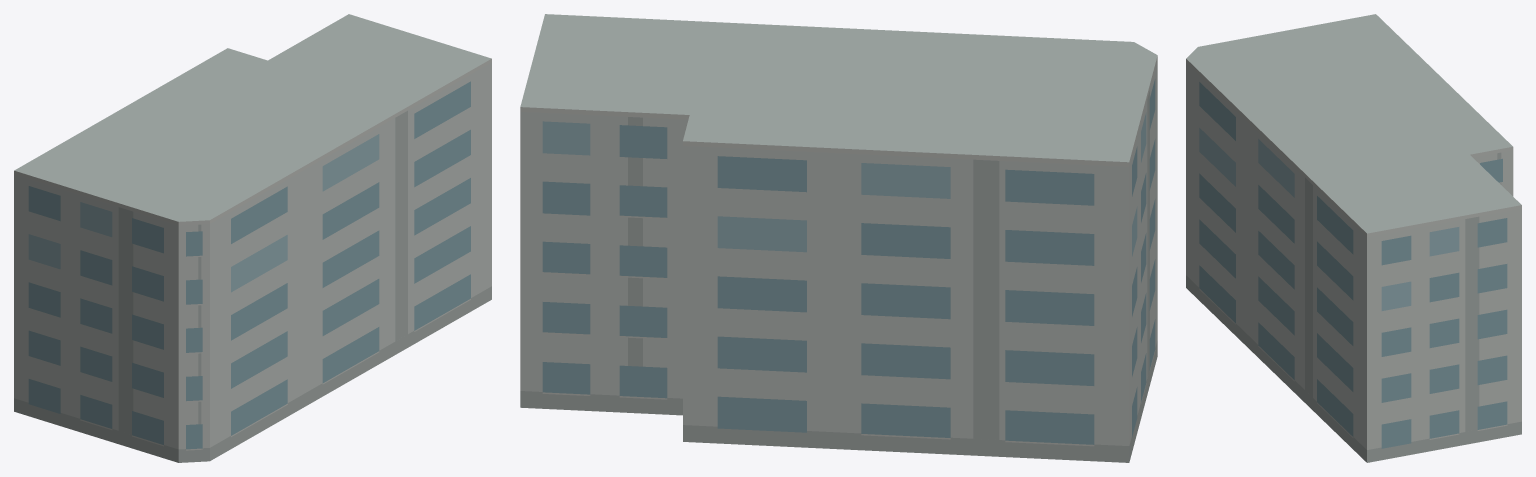
Rendered from residential-a23a7ede-98d0-4308-b3cb-d0db424e5a5b.glb.
The picture shows the model from 3 angles, left to right: view 1: azimuth 30°, elevation 25°; view 2: azimuth 150°, elevation 25°; view 3: azimuth 270°, elevation 25°; orthographic projection. The views are drawn at different scales.
Visible parts, largest first — view 1: residential-a23a7ede-98d0-4308-b3cb-d0db424e5a5b.tmp; view 2: residential-a23a7ede-98d0-4308-b3cb-d0db424e5a5b.tmp; view 3: residential-a23a7ede-98d0-4308-b3cb-d0db424e5a5b.tmp.
Boxes of the visible parts, box(x1,y1,x2,y2) form: residential-a23a7ede-98d0-4308-b3cb-d0db424e5a5b.tmp: box(14, 14, 491, 462); residential-a23a7ede-98d0-4308-b3cb-d0db424e5a5b.tmp: box(520, 14, 1157, 462); residential-a23a7ede-98d0-4308-b3cb-d0db424e5a5b.tmp: box(1186, 14, 1521, 462).
Size of the model in its own units: 31.33 by 15.25 by 20.25.
